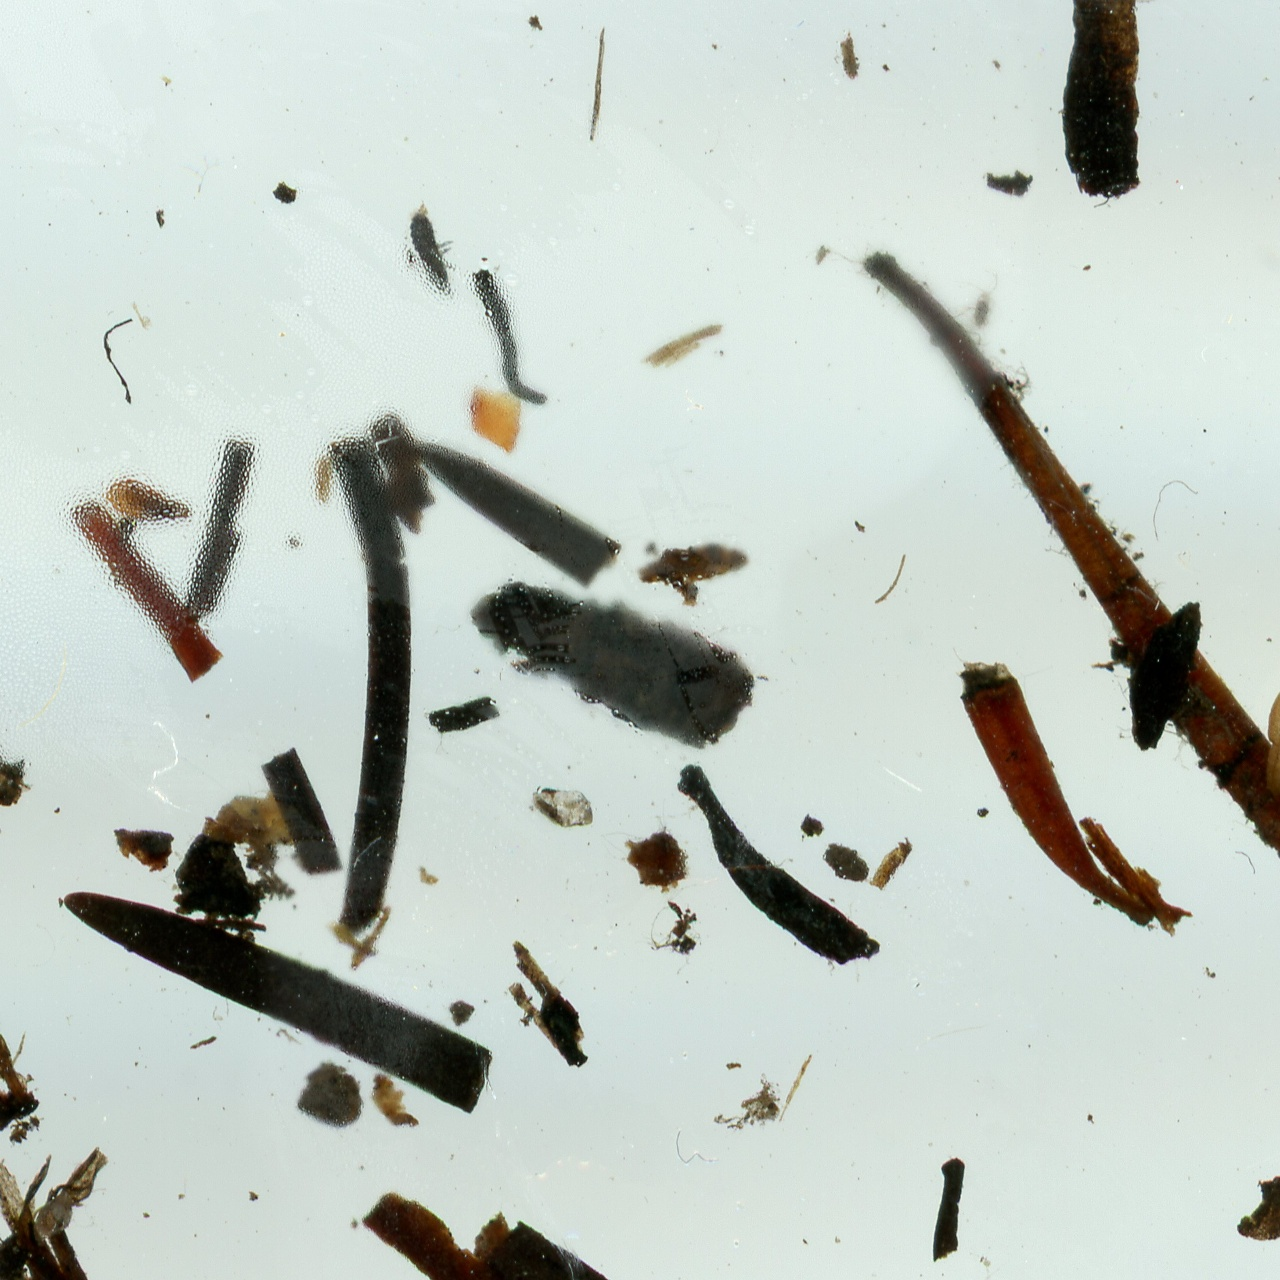arthropod: (382, 184, 462, 305)
